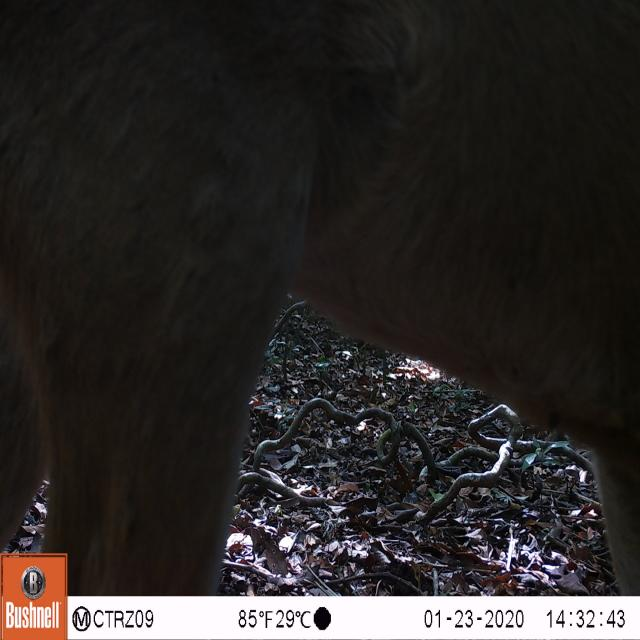White-tailed Deer: (1, 0, 640, 551)
